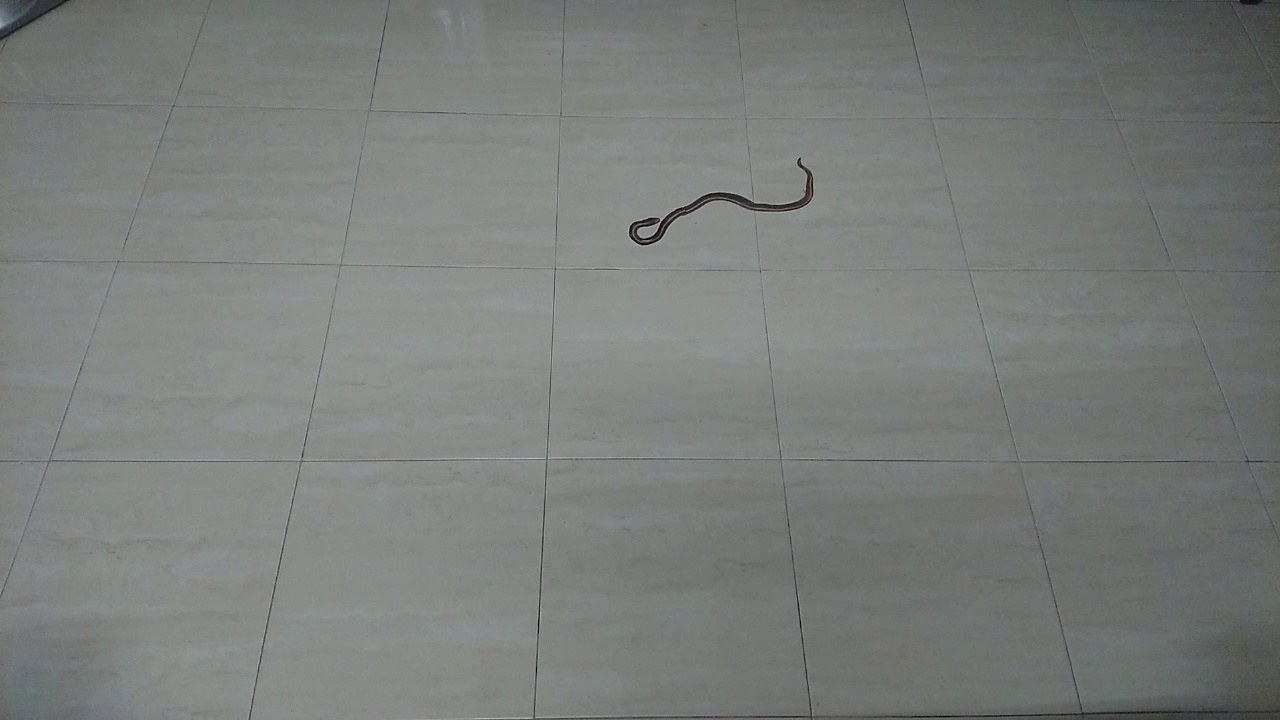snake: (616, 145, 825, 254)
